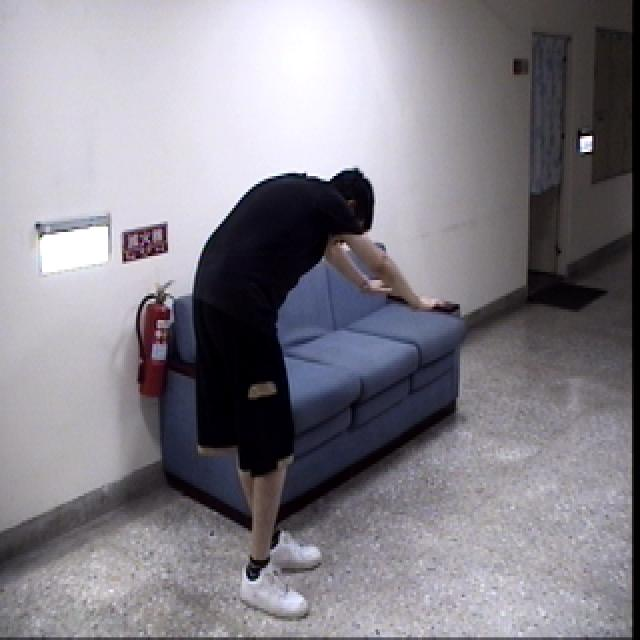bend: (184, 159, 453, 624)
